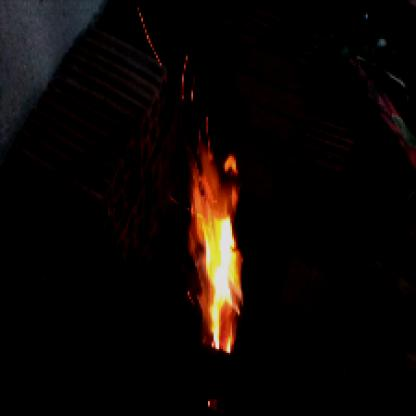Fire: (174, 106, 250, 360)
